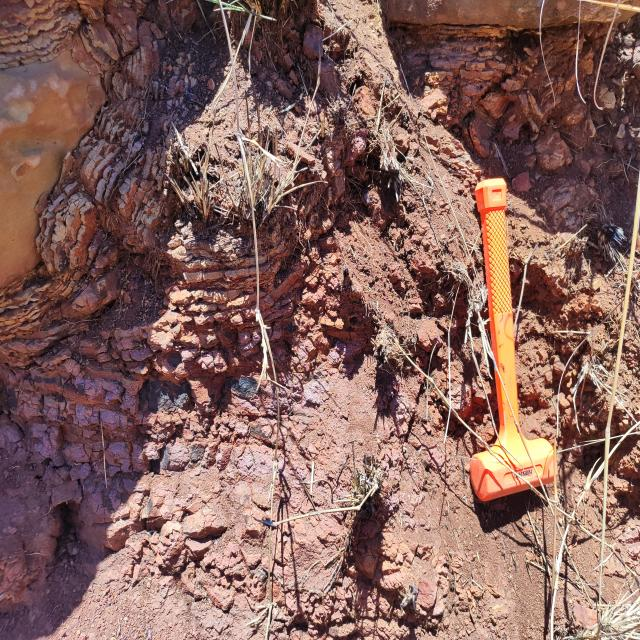Orange_hammer: (468, 176, 558, 503)
